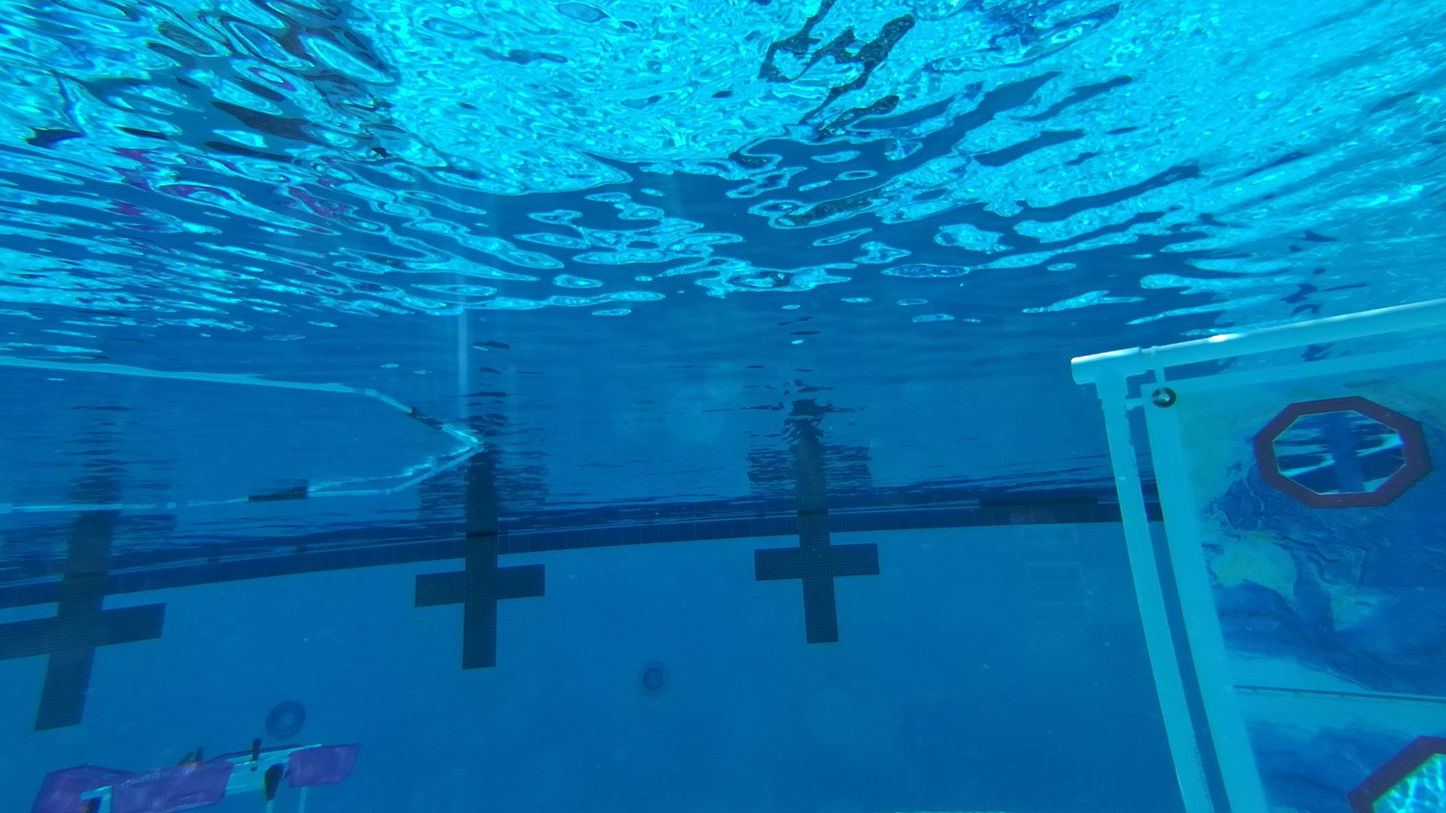coral-box-side: (56, 727, 360, 813)
red octagon: (1252, 398, 1429, 512), (1347, 736, 1446, 813)
